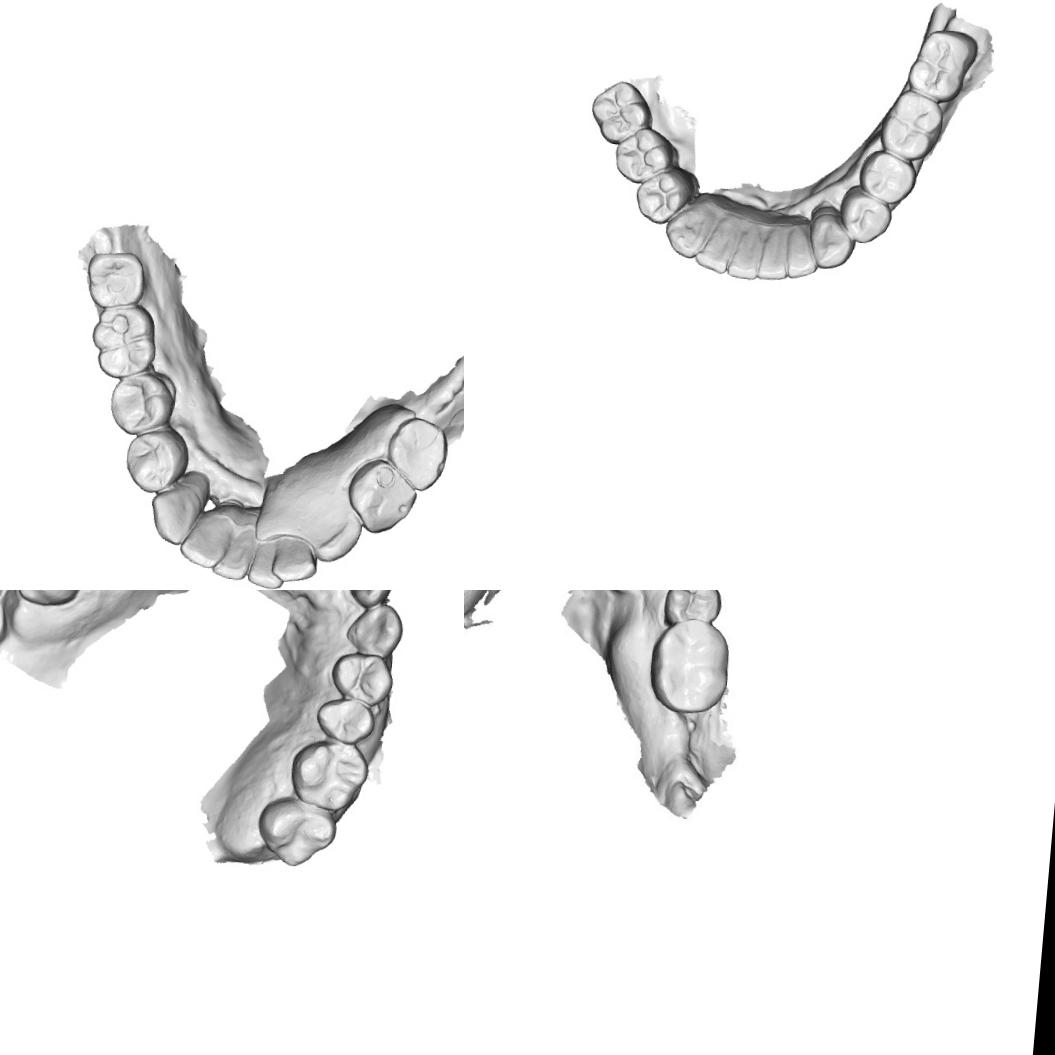canine: (146, 474, 208, 550), (342, 600, 406, 659), (661, 196, 718, 261), (805, 202, 858, 271), (312, 516, 368, 568)
incisor: (178, 505, 236, 571), (267, 530, 319, 586), (209, 525, 258, 583), (692, 214, 737, 275), (244, 534, 285, 590), (726, 222, 764, 282), (756, 228, 790, 283), (784, 234, 820, 280), (346, 590, 397, 610)
molar: (645, 616, 732, 718), (286, 734, 372, 814), (252, 792, 340, 870), (86, 300, 162, 384), (904, 26, 979, 104), (876, 86, 945, 164), (588, 77, 656, 146), (80, 247, 148, 312), (612, 124, 678, 186), (2, 590, 86, 608)
premolar: (342, 453, 422, 537), (383, 412, 452, 494), (106, 368, 180, 440), (122, 422, 193, 497), (328, 650, 396, 708), (632, 165, 694, 226), (856, 146, 920, 205), (836, 182, 894, 245), (312, 694, 377, 746), (658, 590, 724, 626)
